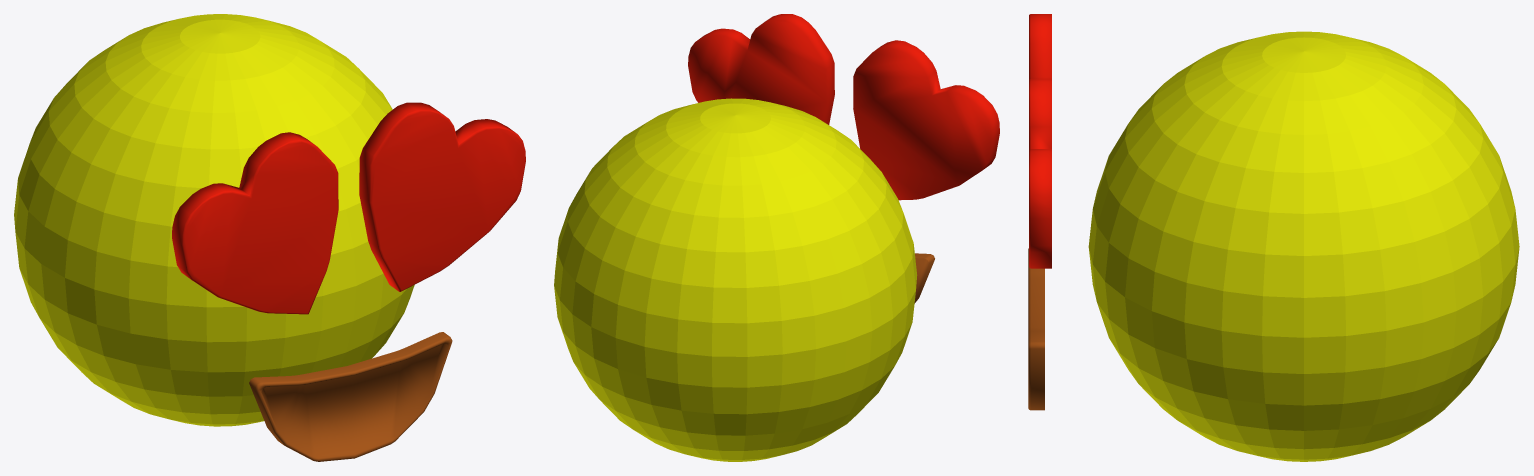
The model's file is ToLove.fbx.
The picture shows the model from 3 angles, left to right: view 1: azimuth 30°, elevation 25°; view 2: azimuth 150°, elevation 25°; view 3: azimuth 270°, elevation 25°; orthographic projection. The views are drawn at different scales.
Parts seen in each view (by area): view 1: ToLove; view 2: ToLove; view 3: ToLove.
Boxes of the visible parts, x1=… form: ToLove: x1=14, y1=14, x2=525, y2=461; ToLove: x1=554, y1=14, x2=999, y2=461; ToLove: x1=1028, y1=14, x2=1519, y2=461.
Size of the model in its own units: 89.67 by 90.35 by 102.
